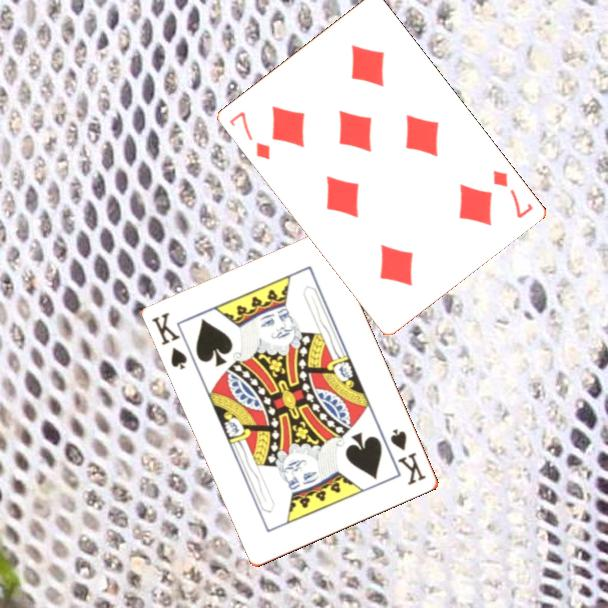d07: (225, 108, 273, 162), (489, 167, 536, 221)
s13: (387, 425, 429, 489), (149, 309, 191, 373)
